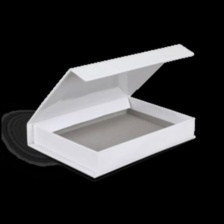book: (23, 35, 206, 183)
